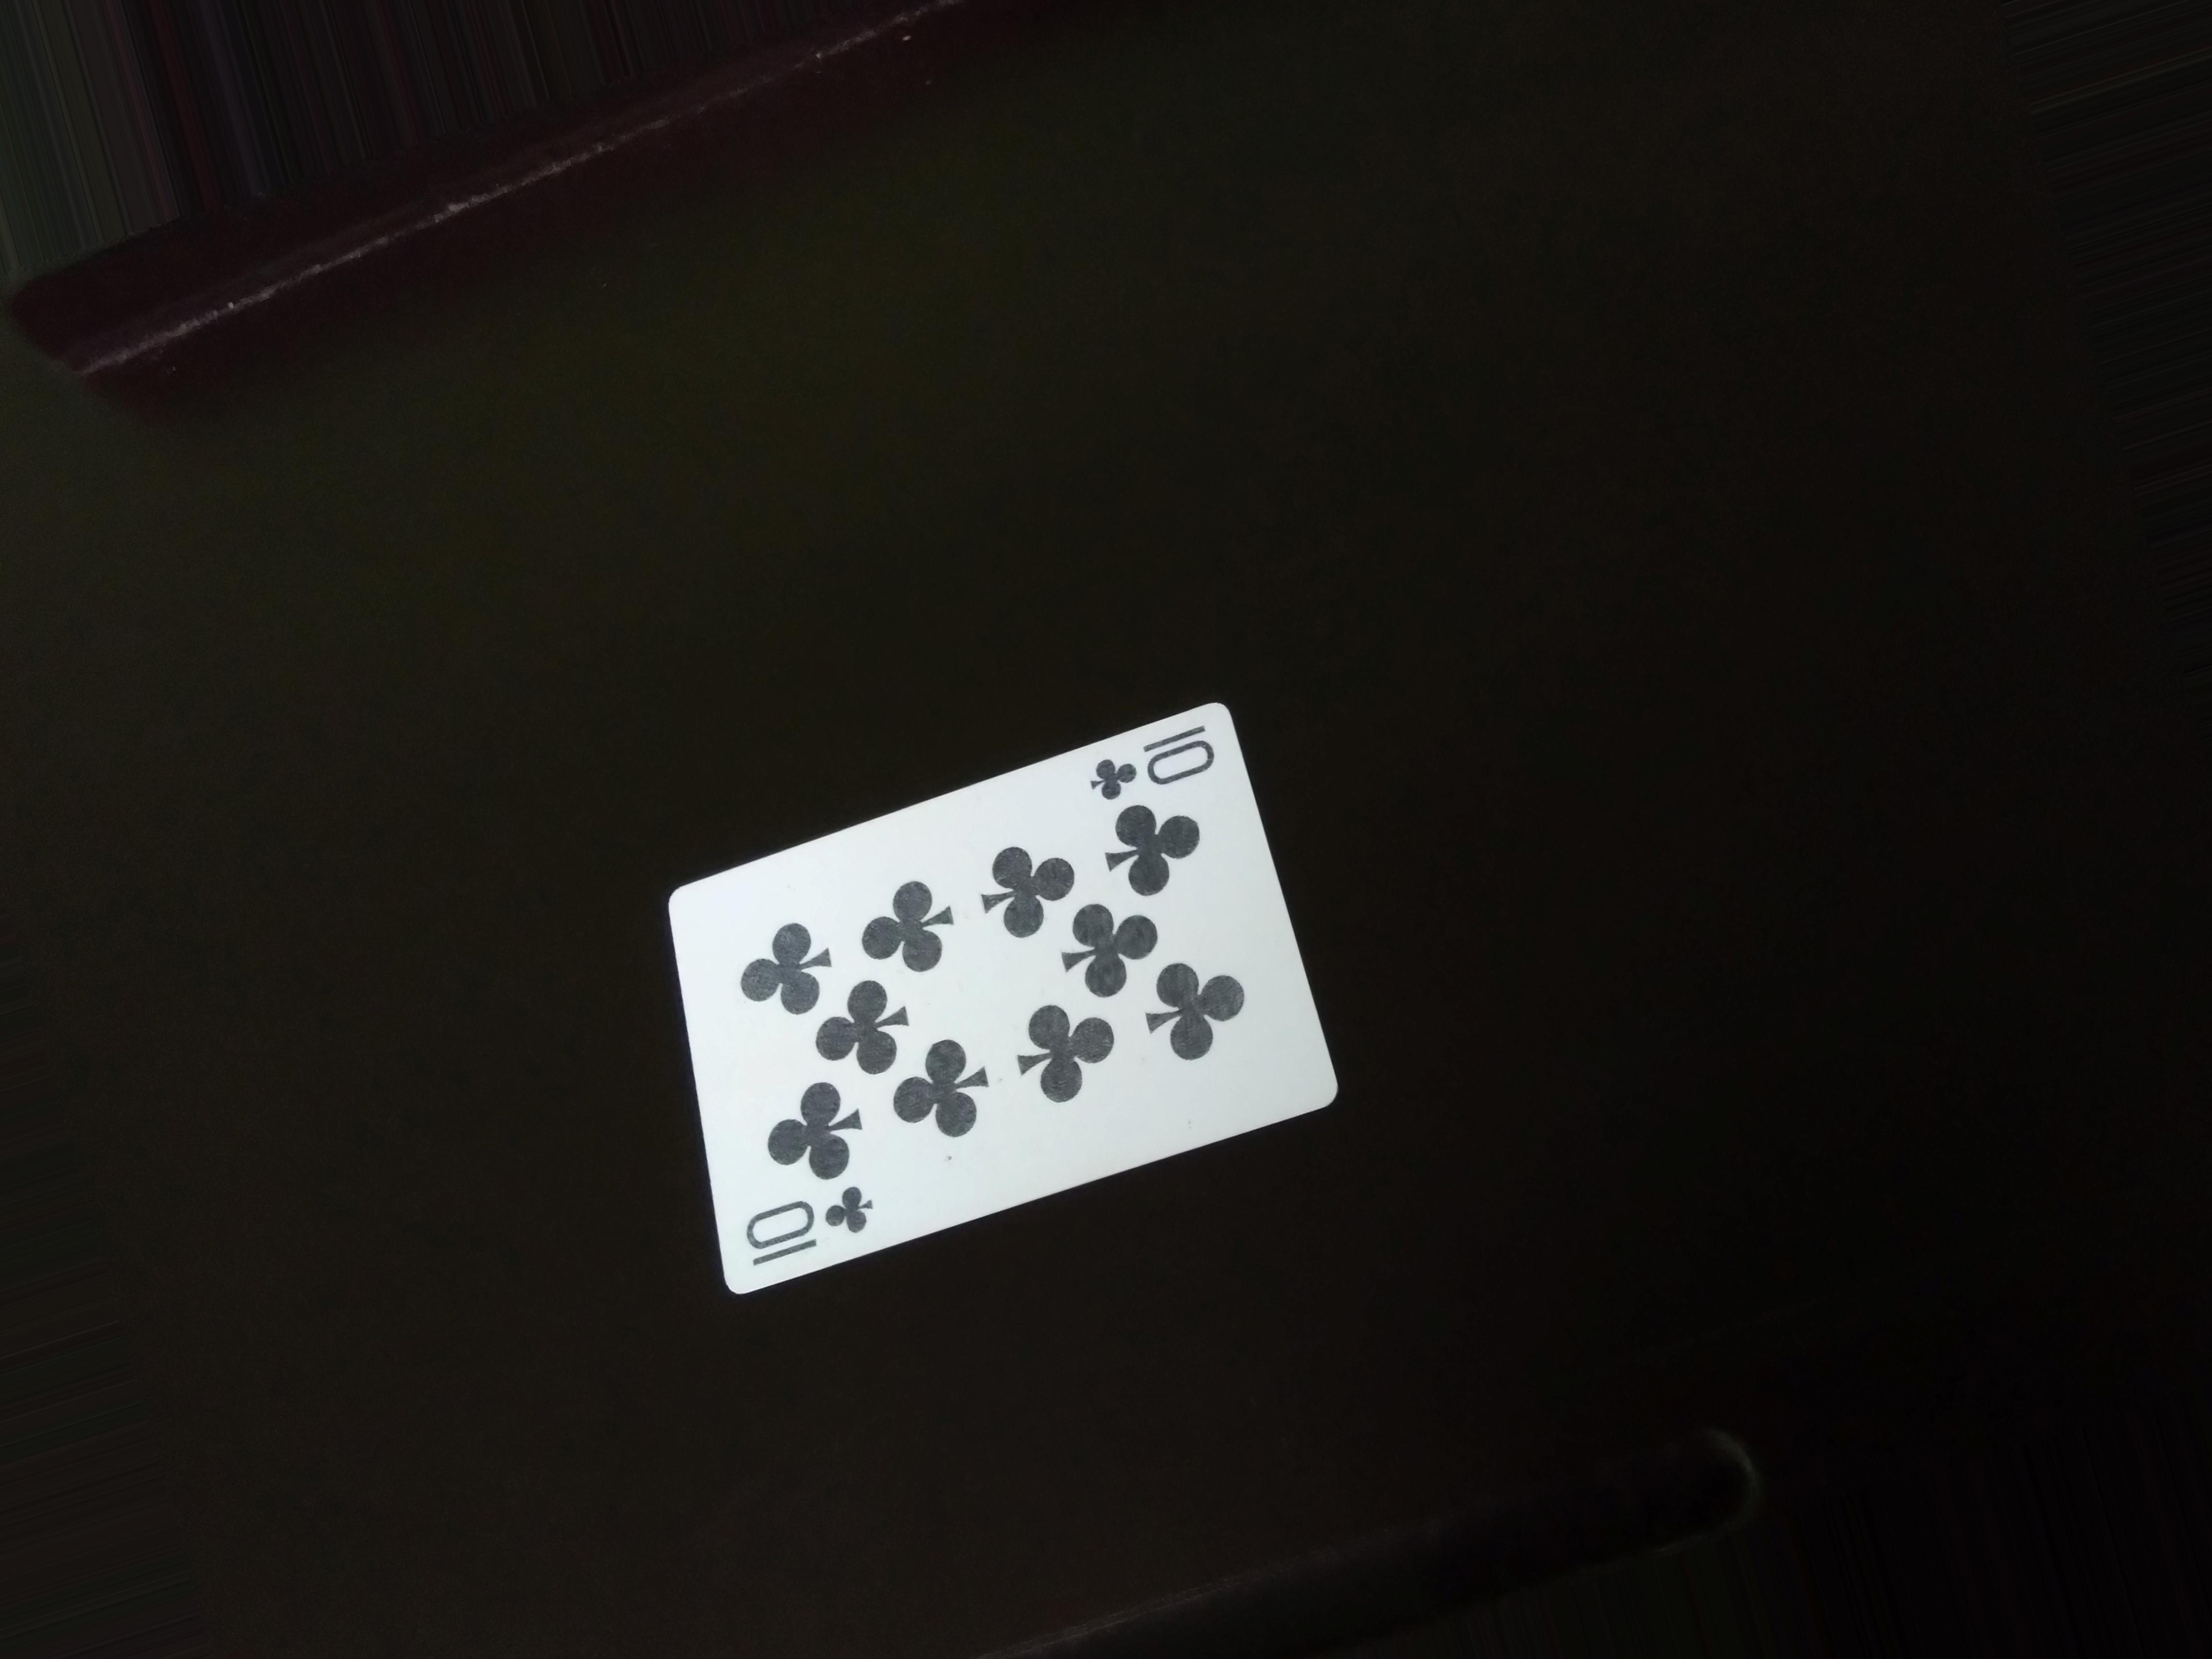10C: (719, 1187, 897, 1267)
